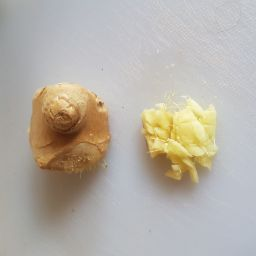Minced ginger: (8, 77, 228, 186), (21, 75, 117, 186), (137, 86, 221, 191)
